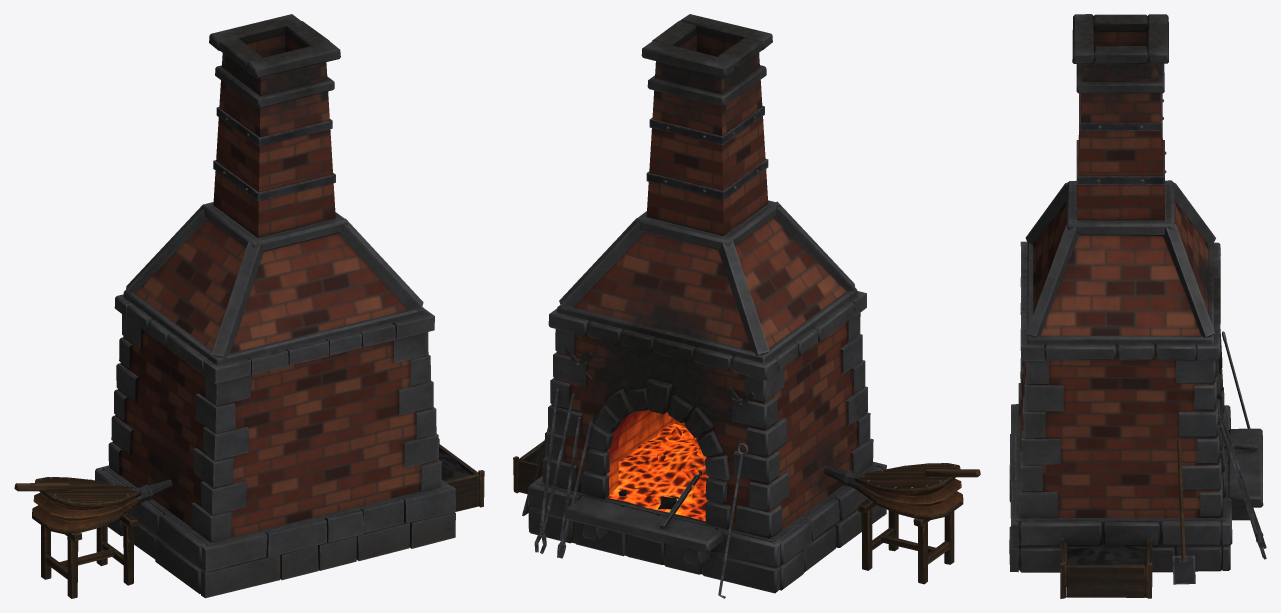
The model's file is forja_horno.fbx.
3 renders of one model, left to right at view 1: azimuth 30°, elevation 25°; view 2: azimuth 150°, elevation 25°; view 3: azimuth 270°, elevation 25°, orthographic.
Parts seen in each view (by area): view 1: forja_horno; view 2: forja_horno, forja_horno_brasas; view 3: forja_horno.
Boxes of the visible parts, x1,y1,x2,y2 form: forja_horno: (14, 14, 484, 598); forja_horno: (513, 14, 980, 598); forja_horno_brasas: (606, 423, 708, 521); forja_horno: (1009, 14, 1266, 598).
Bounding box in the file's own units: 13.91 × 14.57 × 7.06.
1 material, 1 textured.
